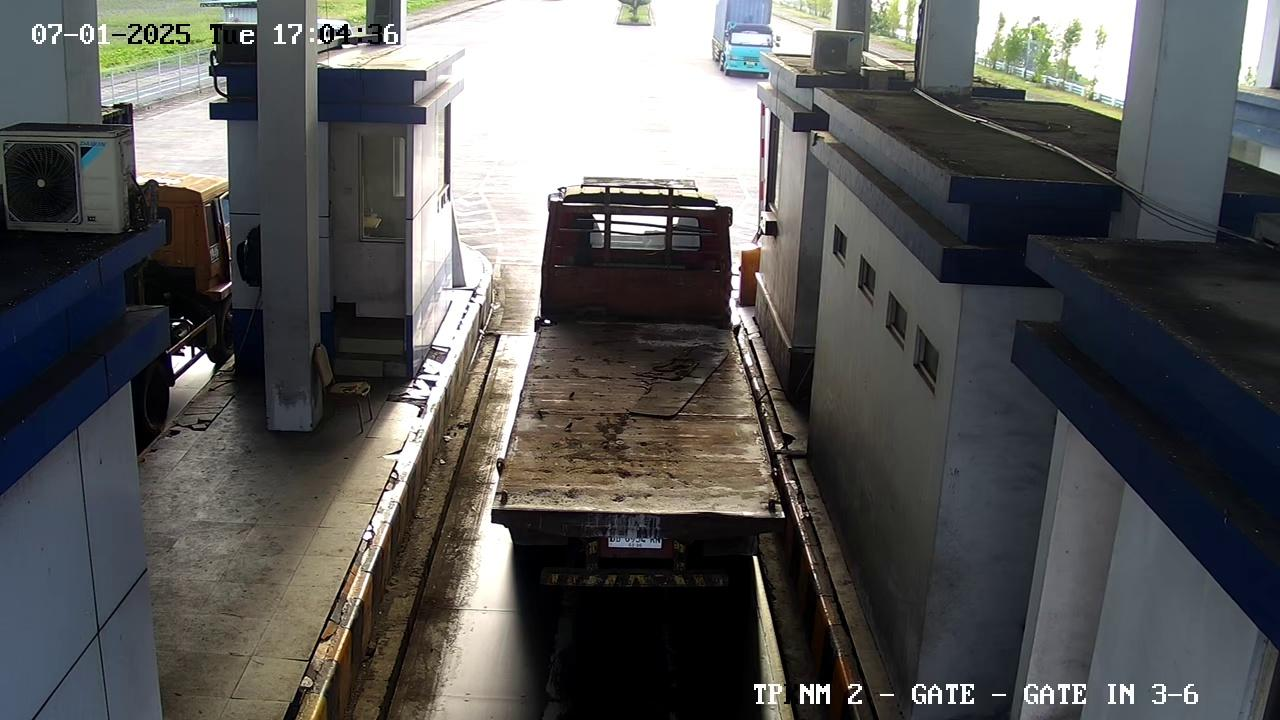plate_number: (605, 516, 672, 560)
